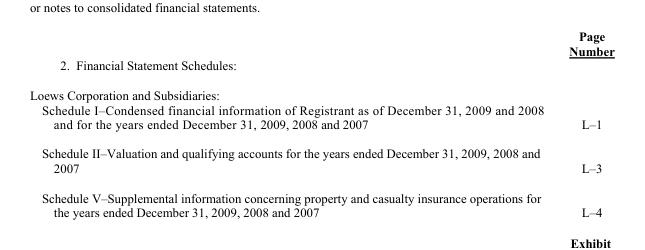table: (28, 28, 613, 219)
table column: (28, 28, 555, 219), (555, 28, 613, 219)
table column header: (28, 28, 613, 57)
table projected row header: (28, 57, 613, 79), (28, 79, 613, 101)
table row: (28, 138, 613, 182), (28, 101, 613, 138), (28, 182, 613, 219), (28, 28, 613, 57), (28, 57, 613, 79), (28, 79, 613, 101)
